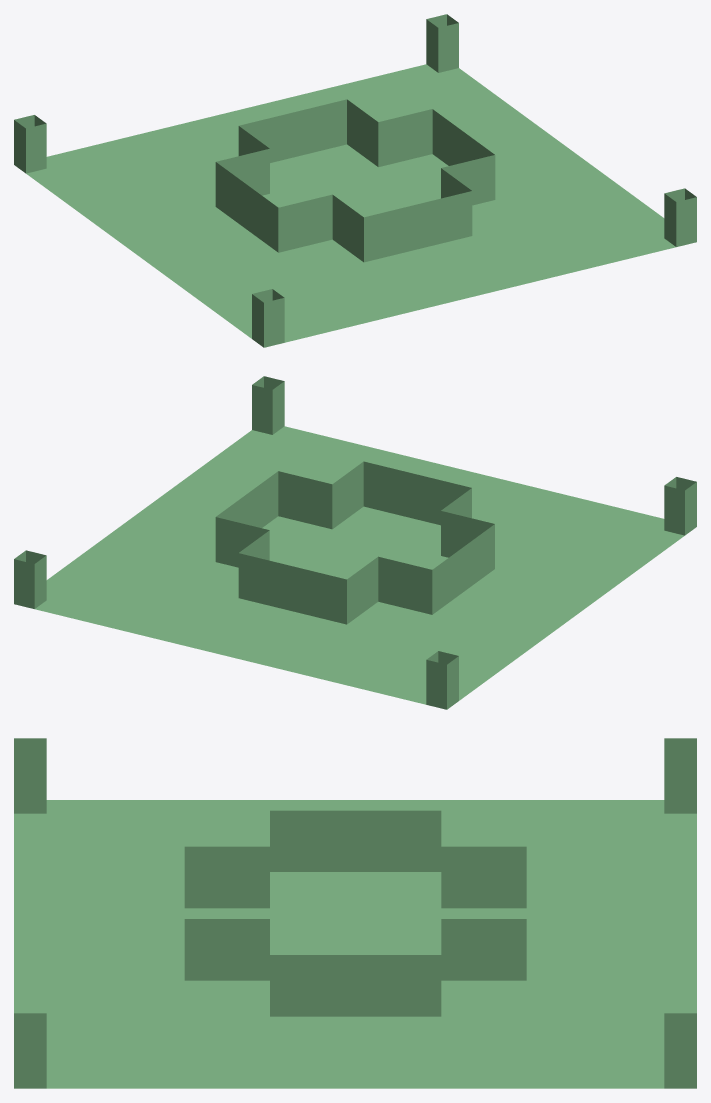
Rendered from Hallway_X_16_A_COL.fbx.
3 views of the same model, one above another, from view 1: azimuth 30°, elevation 25°; view 2: azimuth 150°, elevation 25°; view 3: azimuth 270°, elevation 25° (orthographic). The views are drawn at different scales.
Parts seen in each view (by area): view 1: Hallway_X_16_A_COL; view 2: Hallway_X_16_A_COL; view 3: Hallway_X_16_A_COL.
Boxes of the visible parts, x1=… form: Hallway_X_16_A_COL: x1=14, y1=14, x2=696, y2=347; Hallway_X_16_A_COL: x1=14, y1=376, x2=696, y2=709; Hallway_X_16_A_COL: x1=14, y1=738, x2=696, y2=1088.
Bounding box in the file's own units: 1600 × 159 × 1600.
